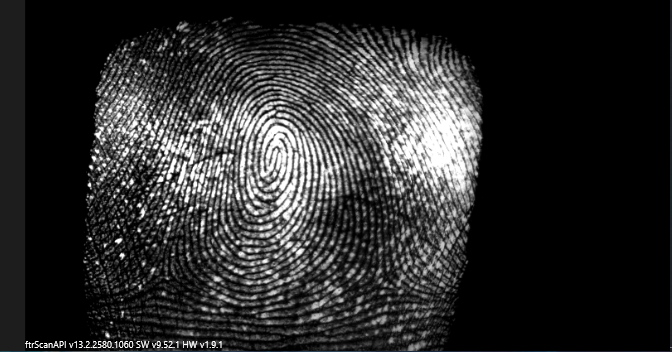deltas: (136, 244, 191, 298), (357, 251, 408, 304)
nucleo: (253, 129, 294, 186)
